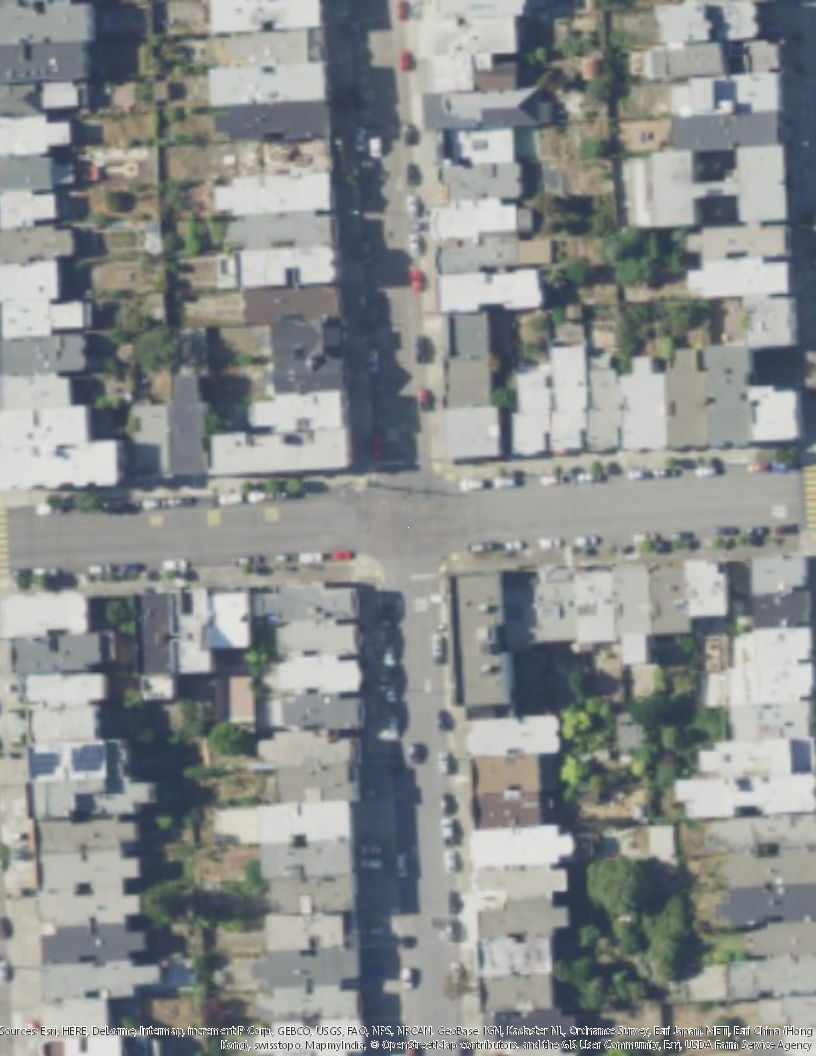zebracross: (800, 459, 816, 533), (1, 507, 12, 570)
